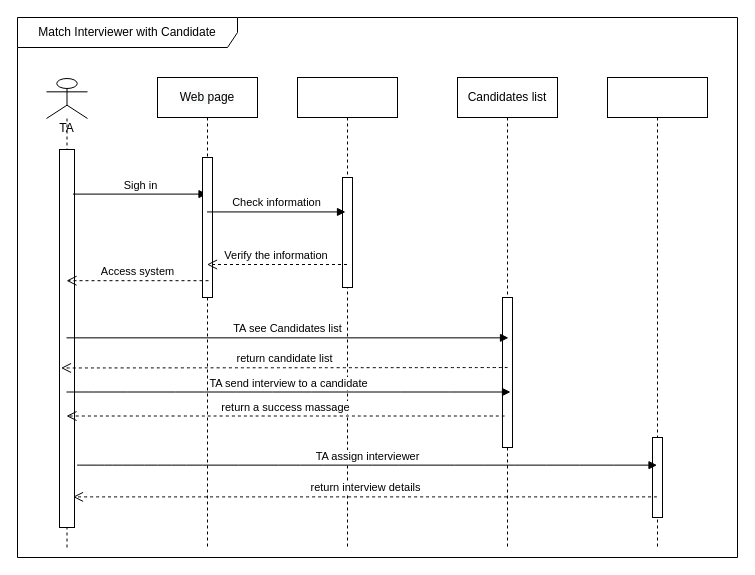
Some shapes in this 755 by 575 pixel diagram are drawn without their labels. The box of each missing label's shape, as (x1, y1, x2, y2) in pixels:
Data Base: (296, 76, 398, 548)
Interviewer: (606, 76, 708, 548)
